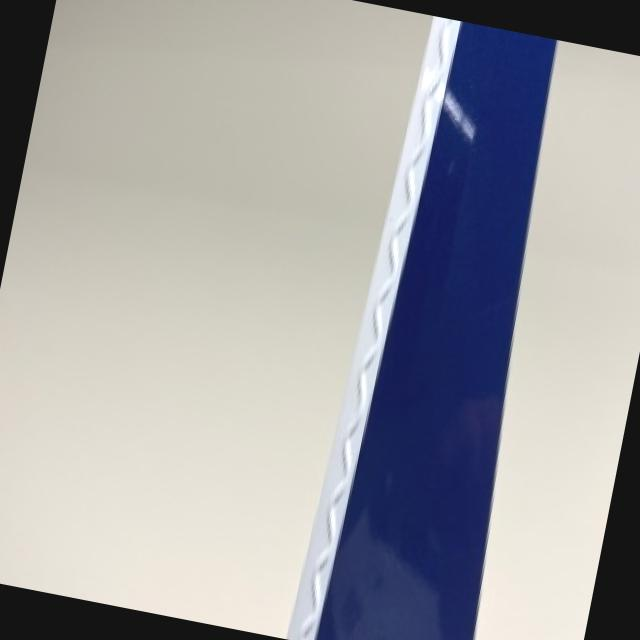healthy: (289, 16, 555, 640)
